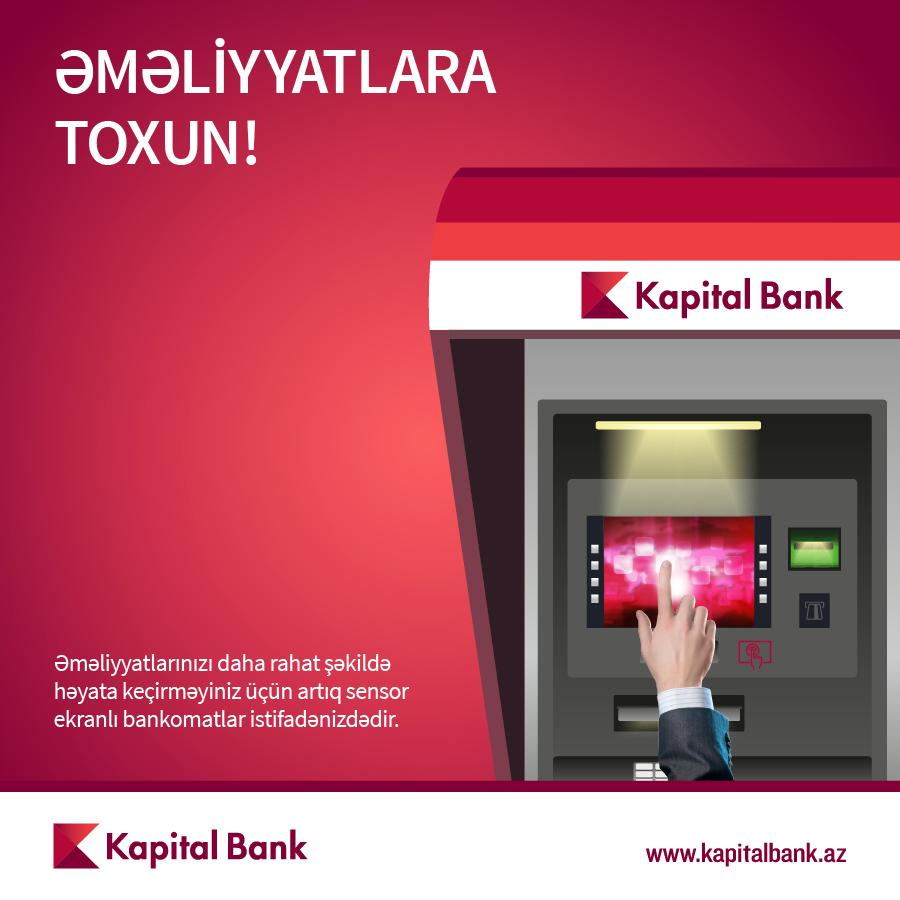Kapital Bank: (579, 268, 630, 319), (50, 820, 100, 869)
